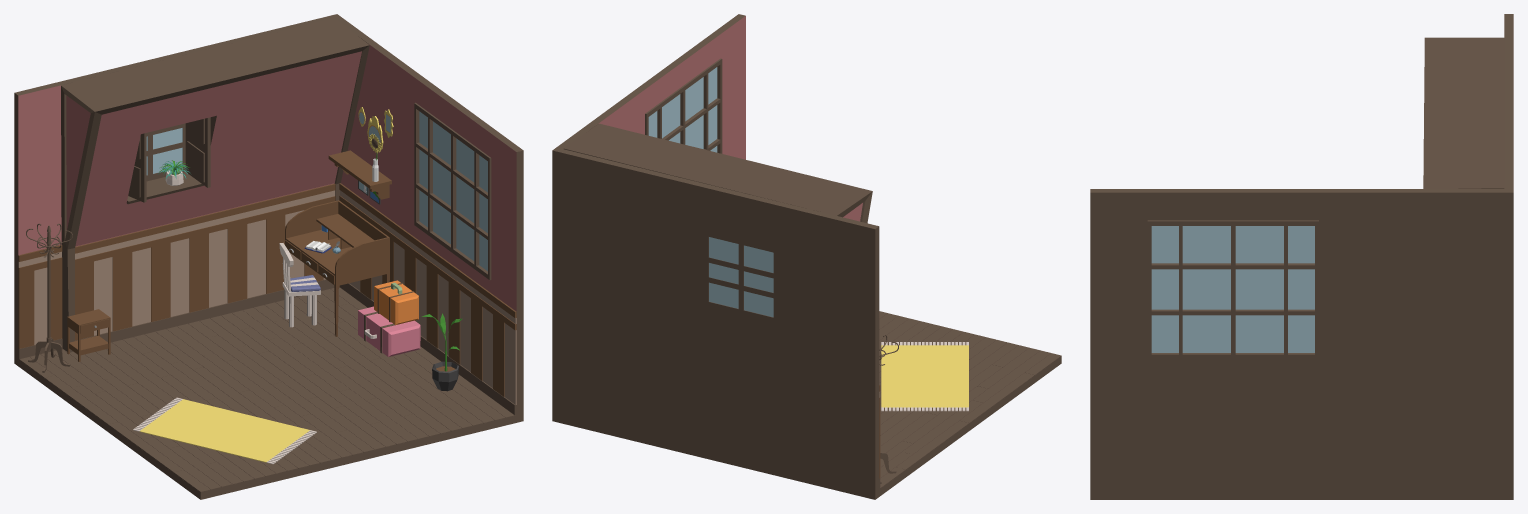
File: landing_02.glb
3 views of the same model, side by side, from view 1: azimuth 30°, elevation 25°; view 2: azimuth 150°, elevation 25°; view 3: azimuth 270°, elevation 25° (orthographic). The views are drawn at different scales.
Parts seen in each view (by area): view 1: landing_02; view 2: landing_02; view 3: landing_02.
Boxes of the visible parts, <box> form: landing_02: <box>14,14,523,499</box>; landing_02: <box>552,14,1061,499</box>; landing_02: <box>1090,14,1513,499</box>.
Size of the model in its own units: 2.52 by 2.01 by 2.5.
Materials: 1 (1 with a texture image).
